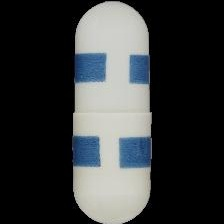69189-1516: (0, 0, 224, 224)
